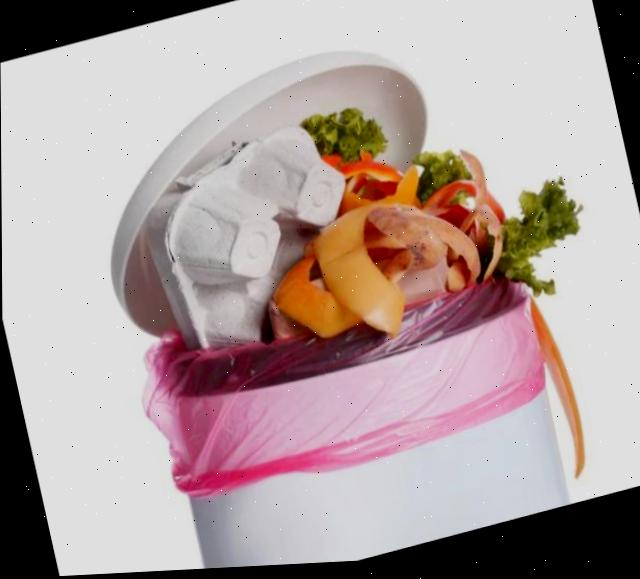Garbage: (111, 69, 578, 351)
contaminated_waste: (145, 129, 344, 348)
